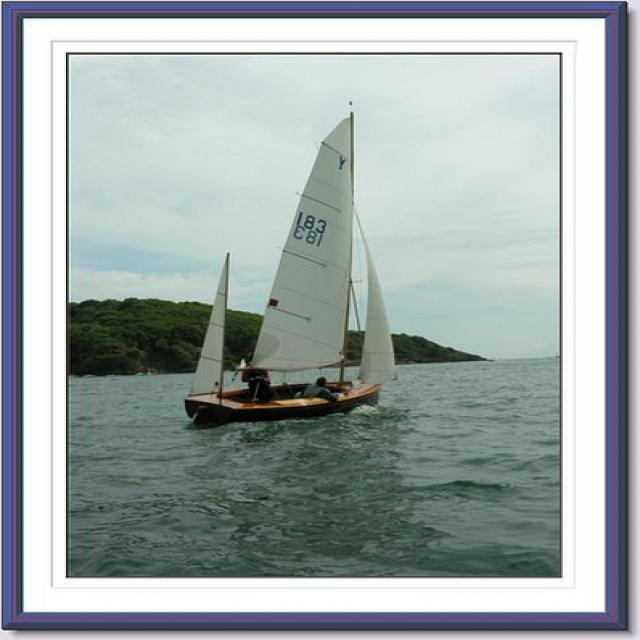Ship: (184, 104, 415, 428)
